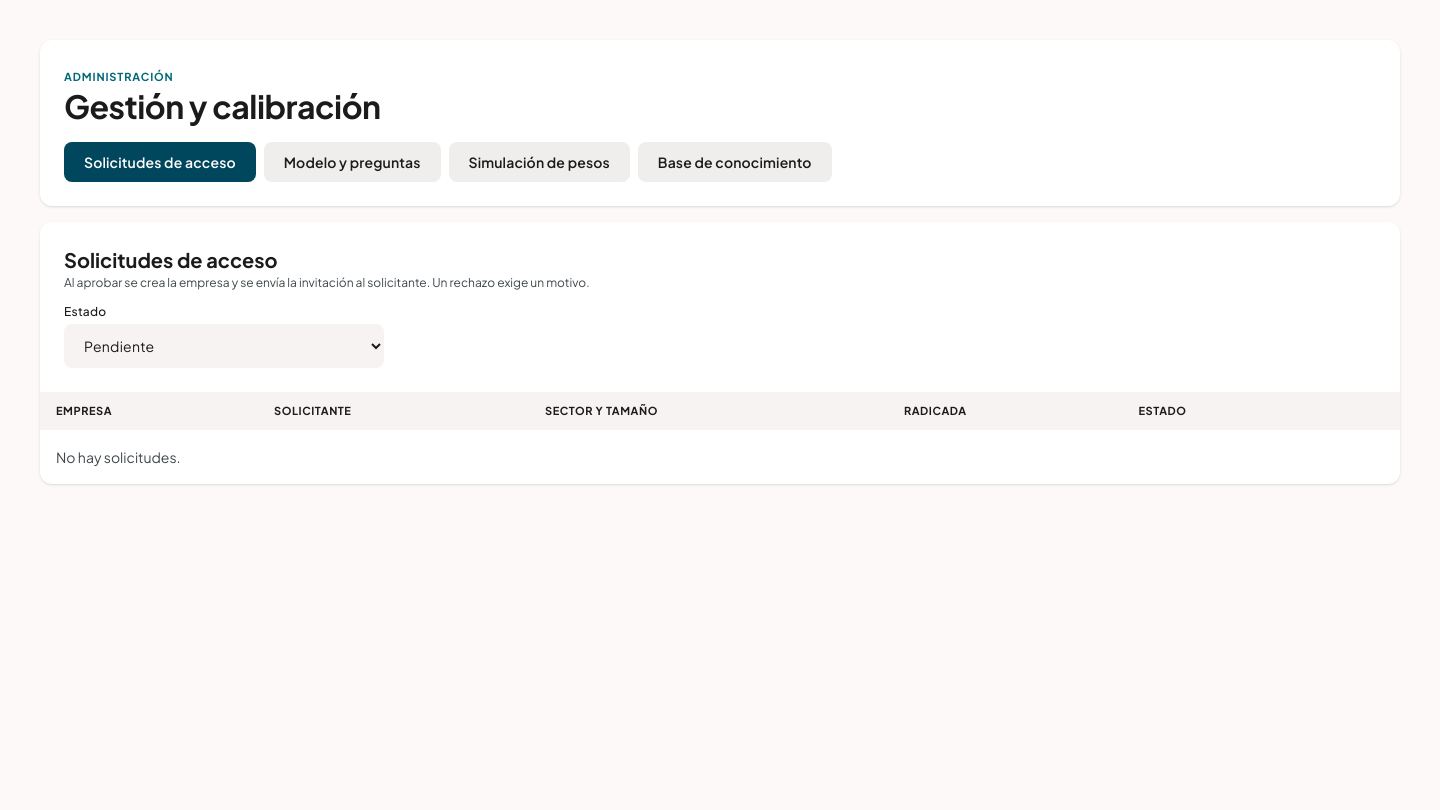
Test case: HU-035 · Simular cambio de pesos › CA-01 simular nunca modifica el modelo almacenado
The width and height of the screenshot is (1440, 810).
Click the tab "Simulación de pesos" at (539, 162), box [448, 142, 630, 182]
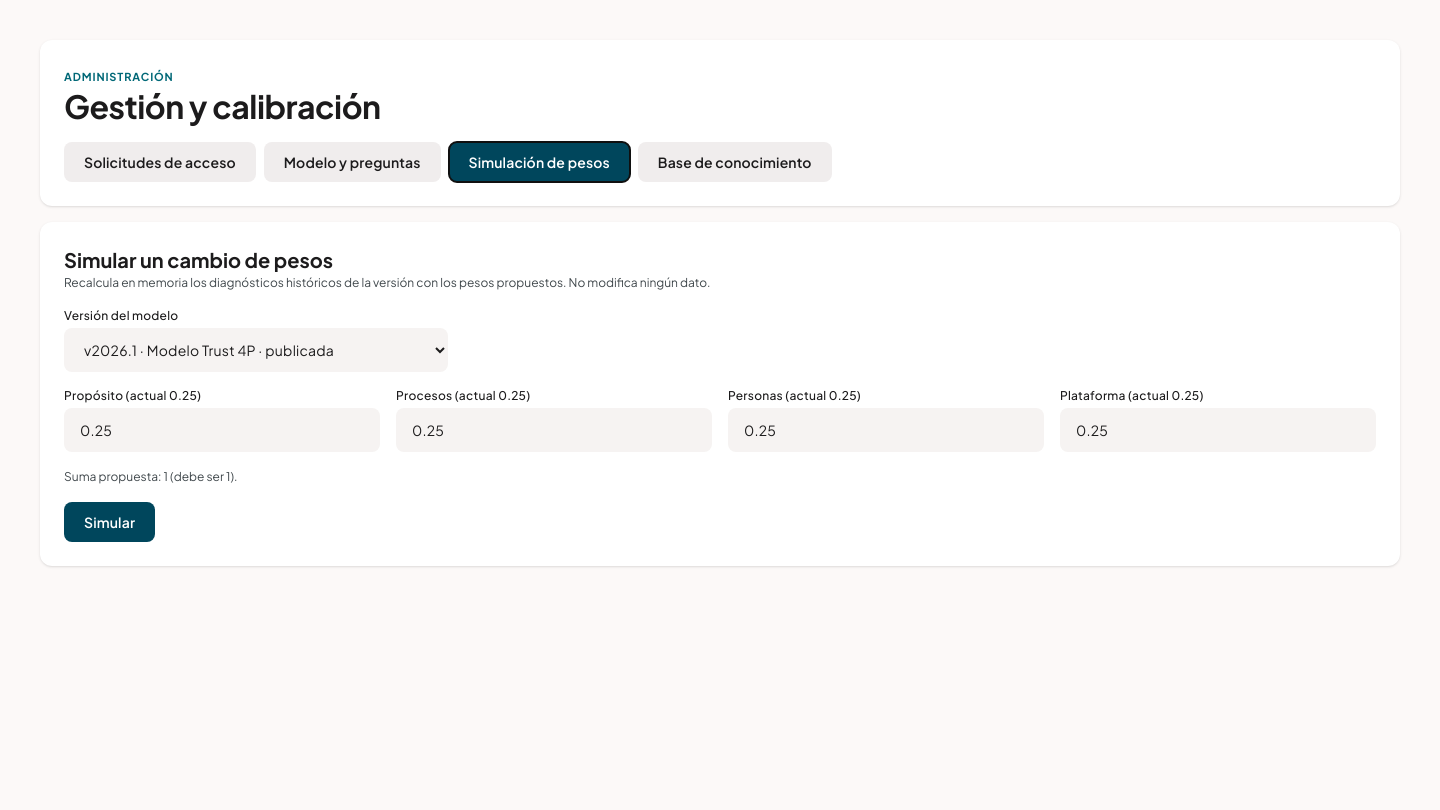
Expected: the number field labelled "Propósito (actual 0.25)" is shown, [64, 408, 380, 452]
Click the button "Simular" at (110, 522), box [64, 502, 155, 542]
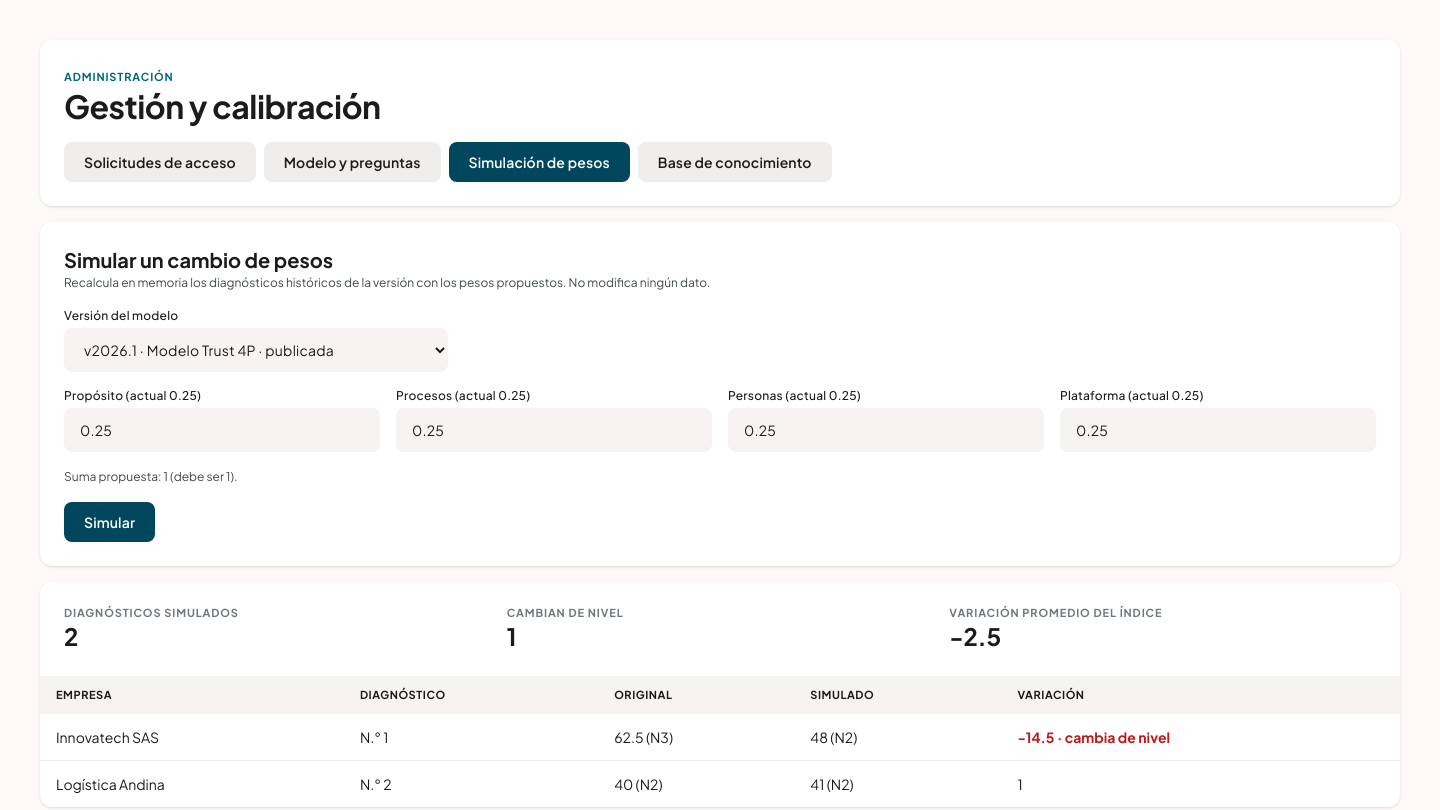
Expected: the text "62.5 (N3)" is shown, [598, 714, 794, 760]
